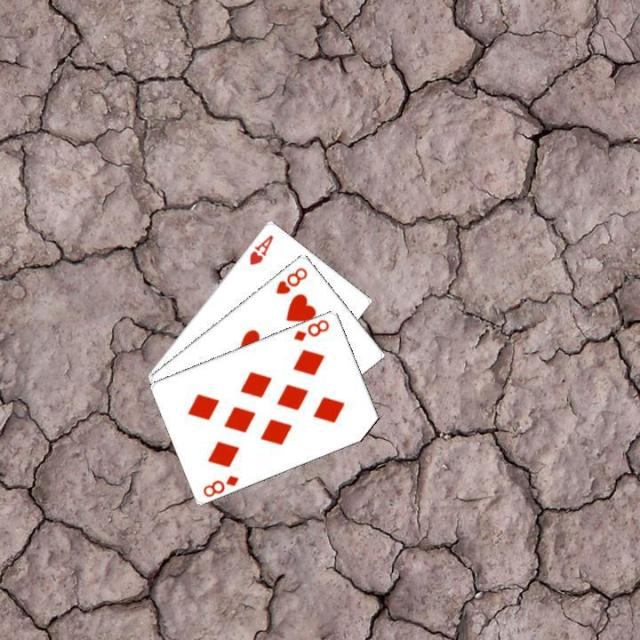8D: (199, 471, 241, 499), (290, 316, 332, 343)
8H: (272, 263, 309, 296)
AH: (246, 230, 276, 267)
